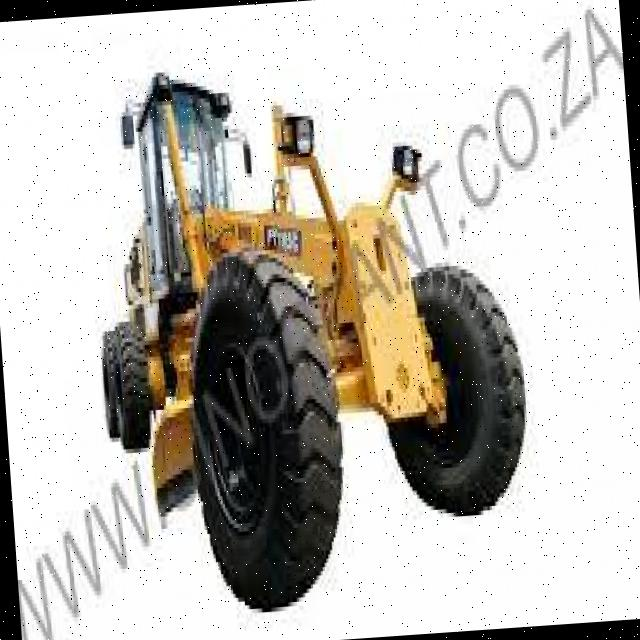Grader: (48, 47, 560, 624)
